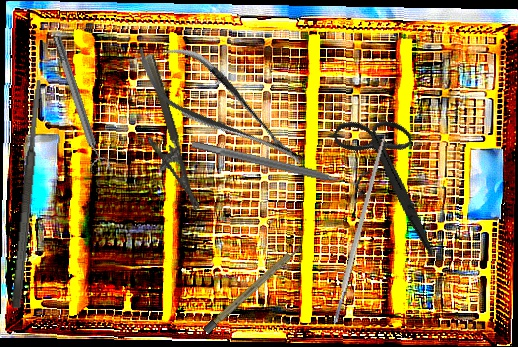Fixation Ring: (189, 130, 370, 198), (46, 32, 113, 175)
Iris Scissors: (304, 98, 480, 257)
Micro Scissor: (123, 23, 318, 189)
Needle Holder: (125, 52, 200, 219)
Scalpel Handle: (329, 134, 389, 326), (202, 241, 305, 335)
Spatula Surgical: (9, 79, 46, 309)
